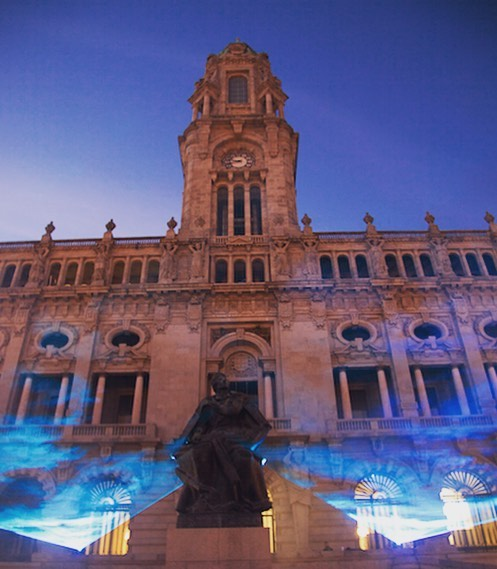camara: (0, 36, 496, 568)
